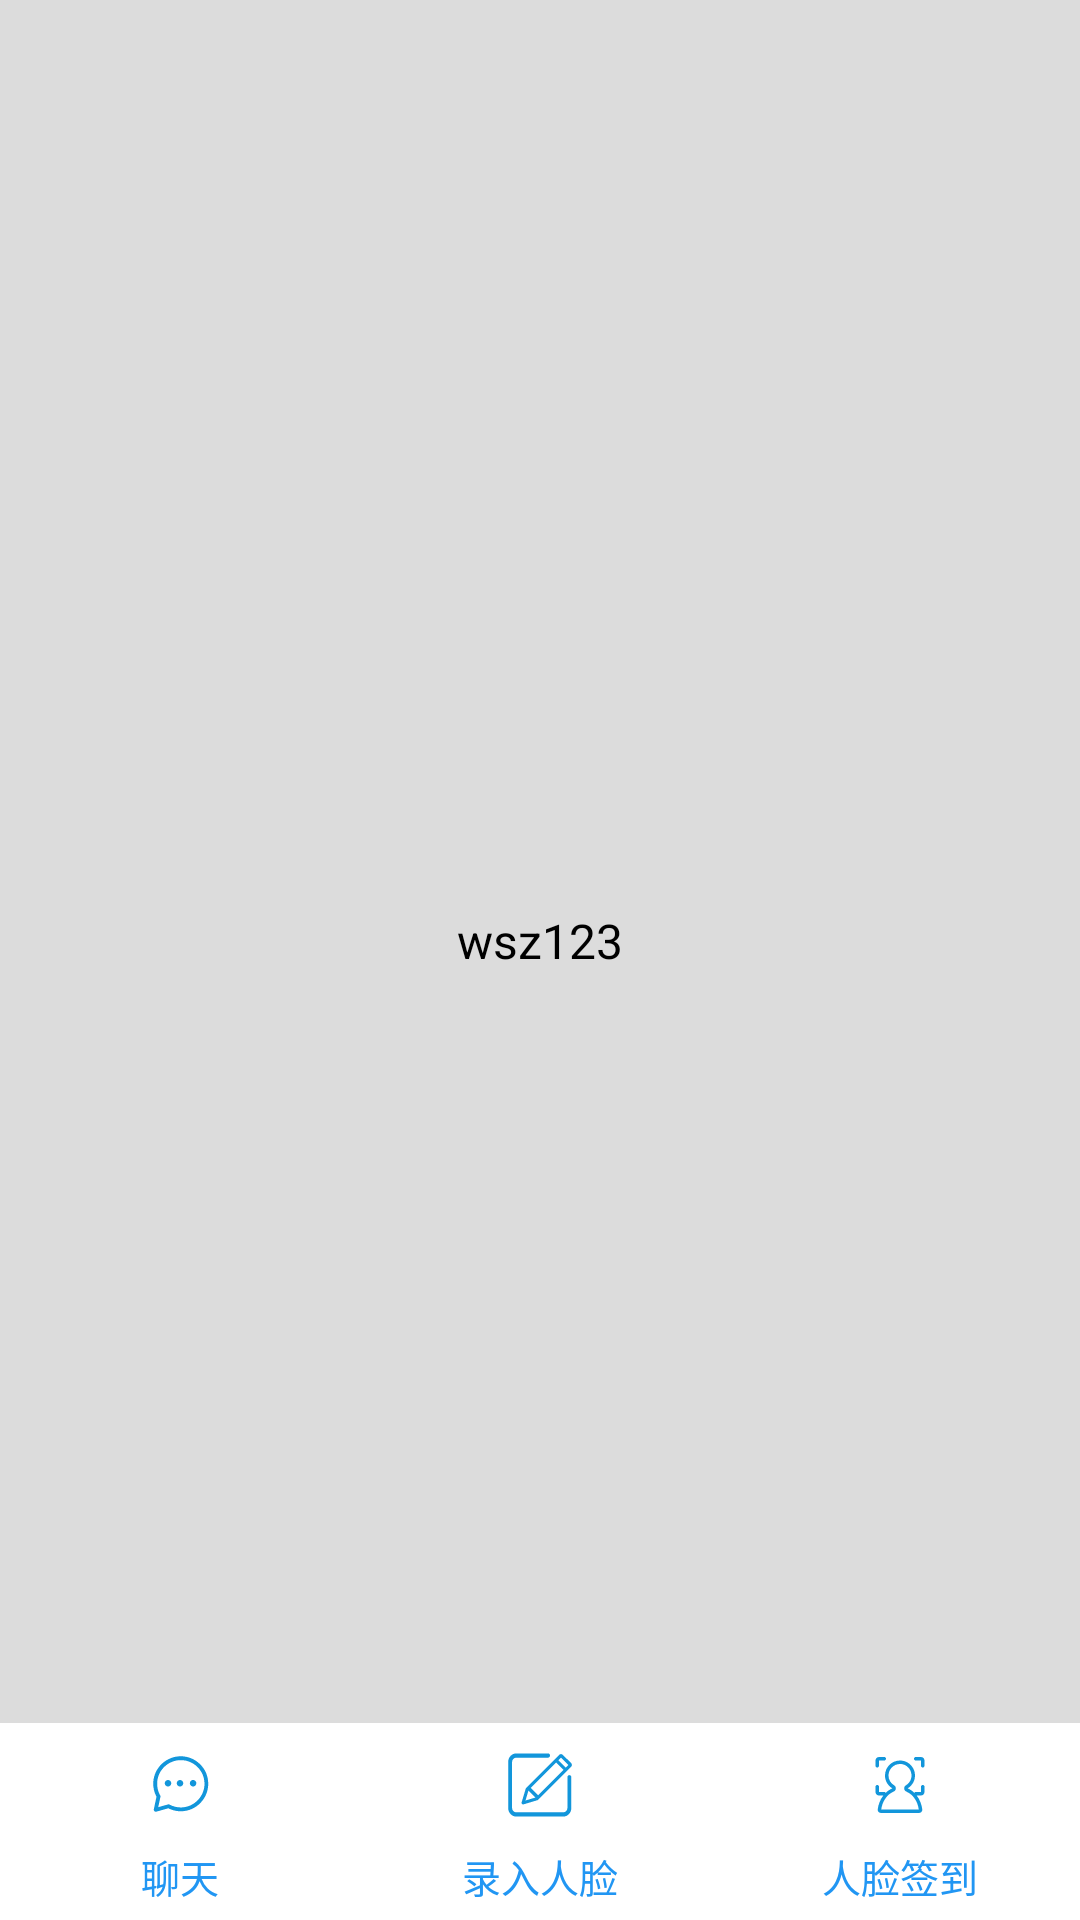

Point at icon controls on the screen. Image size 1080*1920, points as [x,y].
rulu: [540,1785]
shibie: [900,1785]
xiaoxi: [181,1784]
